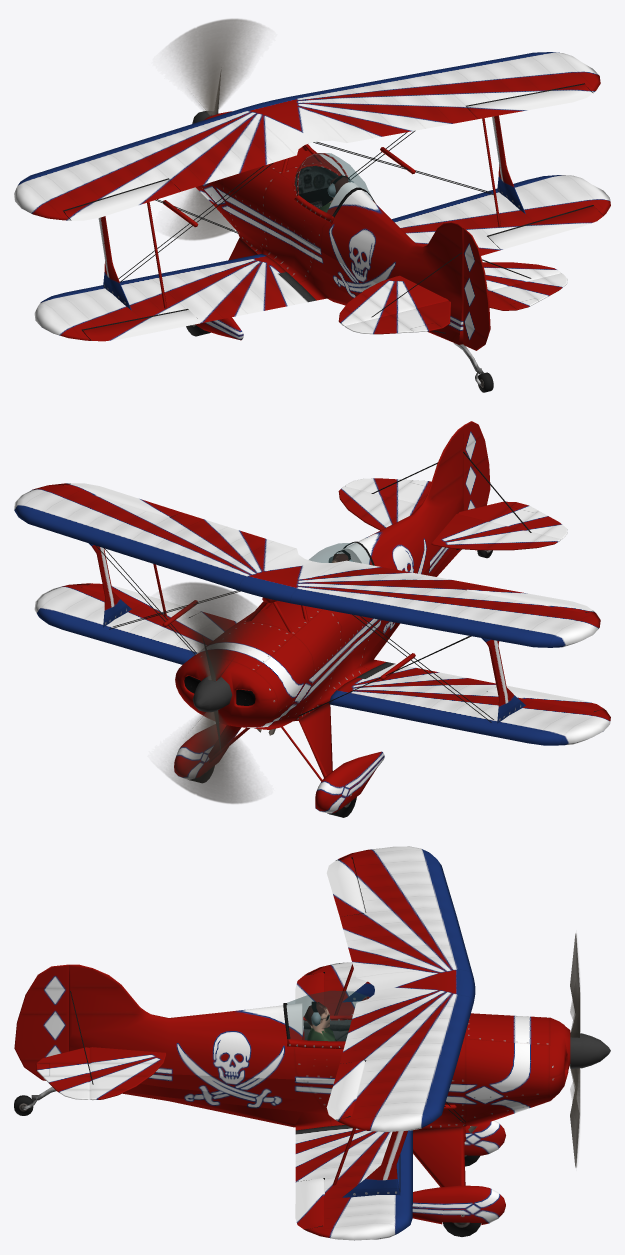
File: pitts.obj
3 views of the same model, one above another, from view 1: azimuth 30°, elevation 25°; view 2: azimuth 150°, elevation 25°; view 3: azimuth 270°, elevation 25° (orthographic).
Visible parts, largest first — view 1: fuselage, proppeler, elevators, canopy-plexiglass, rudder, aileron-bottom-right, aileron-top-right, aileron-top-left, aileron-bottom-left, canopy-frame; view 2: fuselage, proppeler, elevators, rudder, aileron-top-right, aileron-top-left, nose, aileron-bottom-right, aileron-bottom-left, canopy-plexiglass; view 3: fuselage, rudder, canopy-plexiglass, elevators, proppeler, aileron-top-left, aileron-top-right, aileron-bottom-right, nose, aileron-bottom-left, cockpit, canopy-frame (+1 smaller).
Boxes of the visible parts, x1=… form: fuselage: x1=14, y1=52, x2=610, y2=344; proppeler: x1=168, y1=19, x2=264, y2=240; elevators: x1=345, y1=273, x2=567, y2=334; canopy-plexiglass: x1=294, y1=153, x2=371, y2=214; rudder: x1=463, y1=228, x2=490, y2=350; aileron-bottom-right: x1=488, y1=206, x2=603, y2=249; aileron-top-right: x1=467, y1=84, x2=592, y2=118; aileron-top-left: x1=64, y1=179, x2=180, y2=220; aileron-bottom-left: x1=82, y1=310, x2=201, y2=341; canopy-frame: x1=293, y1=153, x2=375, y2=223; fuselage: x1=14, y1=426, x2=610, y2=813; proppeler: x1=162, y1=582, x2=259, y2=803; elevators: x1=345, y1=478, x2=567, y2=539; rudder: x1=463, y1=421, x2=490, y2=510; aileron-top-right: x1=64, y1=483, x2=181, y2=518; aileron-top-left: x1=466, y1=584, x2=592, y2=613; nose: x1=192, y1=676, x2=232, y2=712; aileron-bottom-right: x1=82, y1=583, x2=201, y2=618; aileron-bottom-left: x1=487, y1=685, x2=603, y2=712; canopy-plexiglass: x1=309, y1=543, x2=371, y2=564; fuselage: x1=69, y1=846, x2=570, y2=1240; rudder: x1=14, y1=964, x2=68, y2=1080; canopy-plexiglass: x1=287, y1=991, x2=368, y2=1040; elevators: x1=35, y1=1047, x2=89, y2=1099; proppeler: x1=569, y1=933, x2=580, y2=1167; aileron-top-left: x1=326, y1=857, x2=365, y2=916; aileron-top-right: x1=326, y1=1060, x2=365, y2=1119; aileron-bottom-right: x1=295, y1=1178, x2=324, y2=1229; nose: x1=570, y1=1033, x2=610, y2=1068; aileron-bottom-left: x1=295, y1=972, x2=324, y2=1016; cockpit: x1=304, y1=1001, x2=336, y2=1041; canopy-frame: x1=283, y1=996, x2=369, y2=1048.
Size of the model in its own units: 5.32 by 2.28 by 4.73.
Materials: 5 (3 with a texture image).
